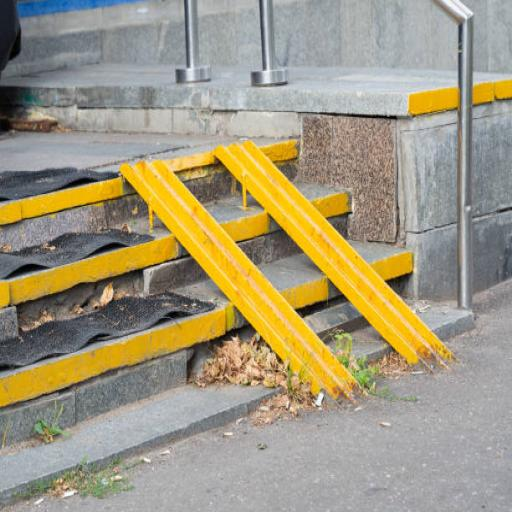ramp: (119, 138, 450, 402)
stairs: (0, 176, 287, 502)
